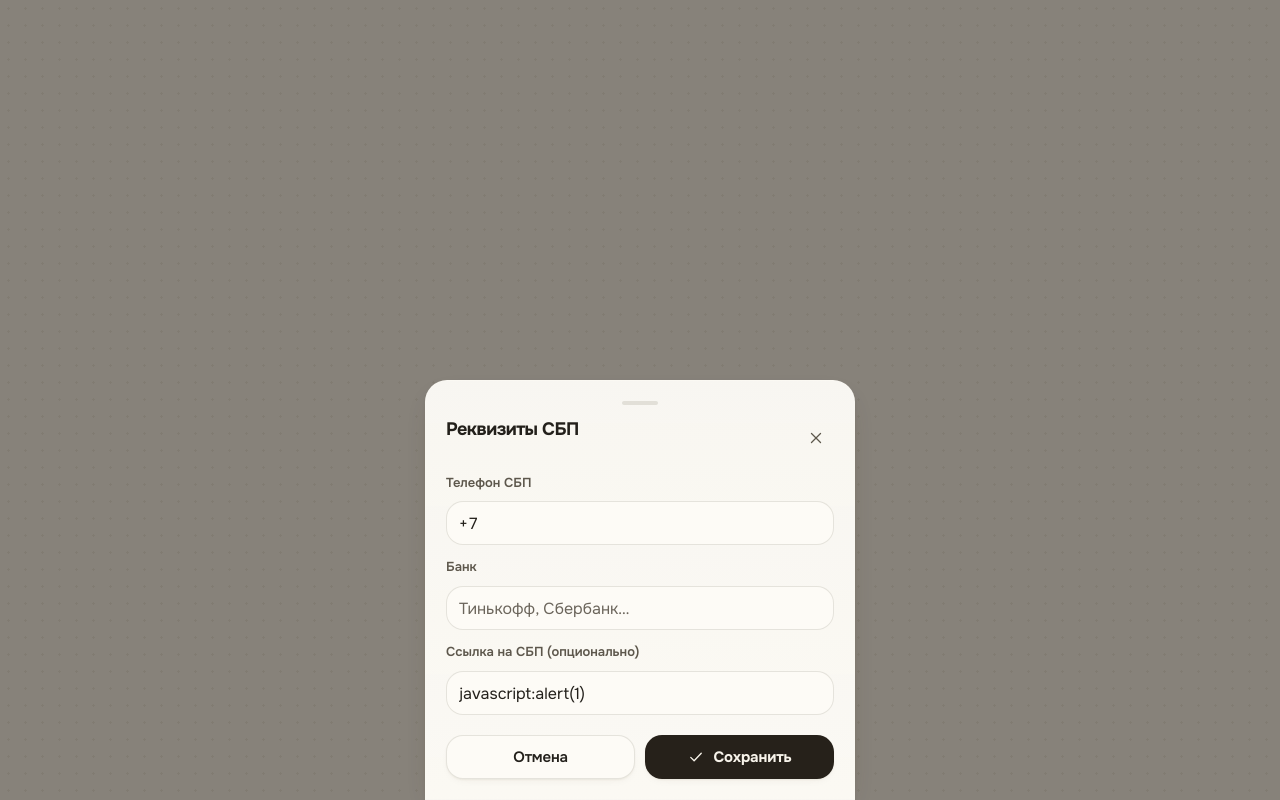
Scenario: EditPaymentInfoSheet › не принимает ссылку с опасной схемой
Click the button "Сохранить".
click(740, 757)  # box [645,735,834,779]
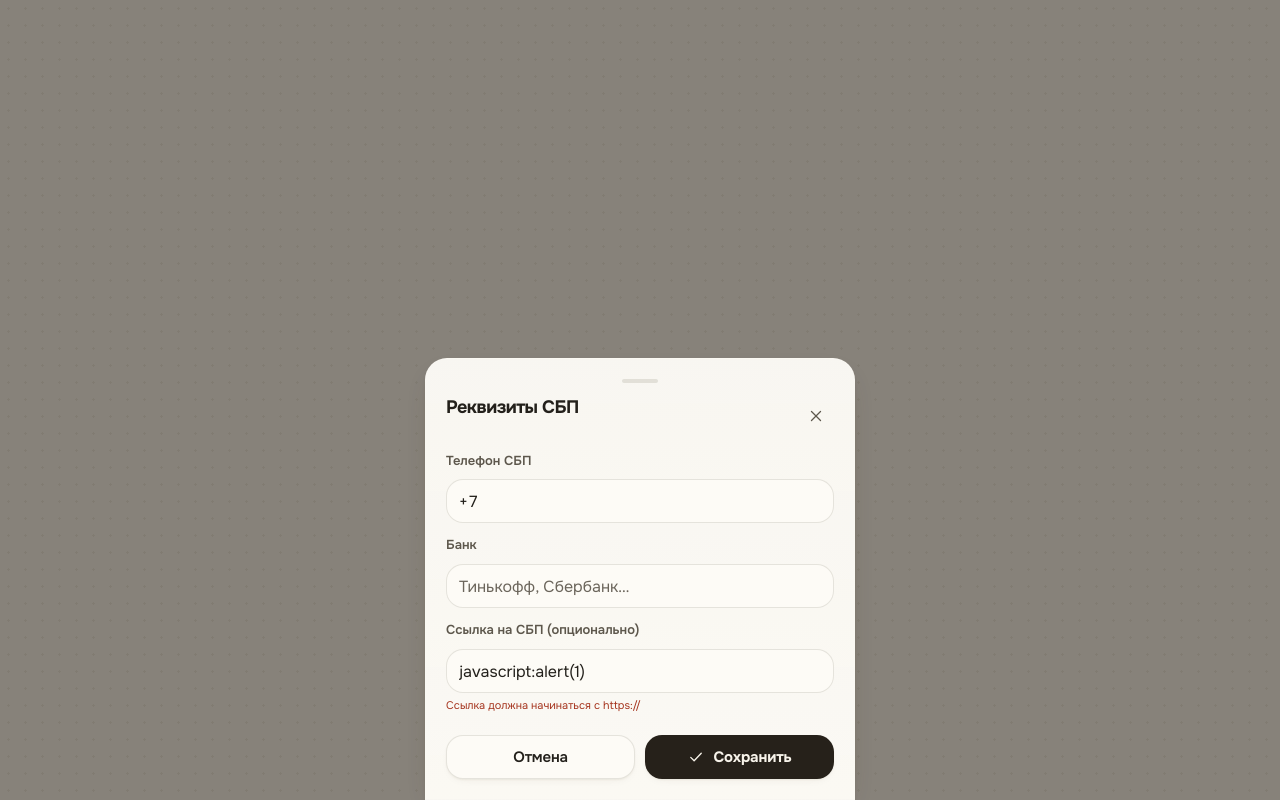
Now the text "Ссылка должна начинаться с https://" is shown, box [446,698,641,712]
